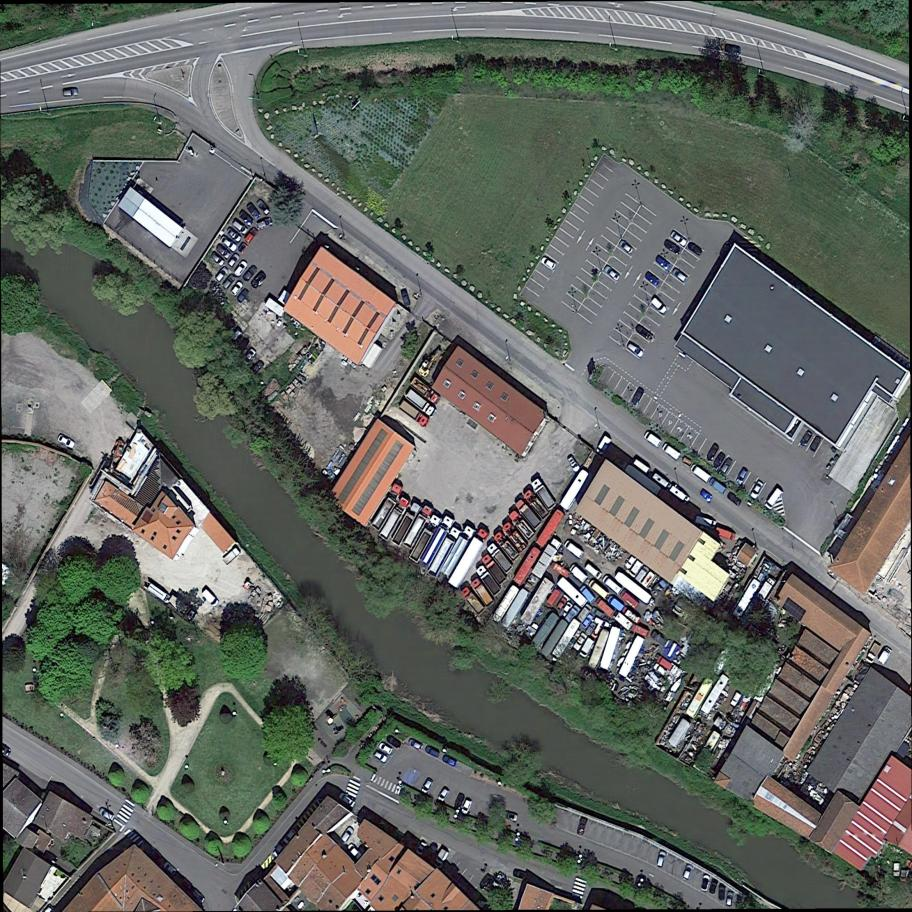large-vehicle: (447, 529, 490, 589), (419, 514, 454, 569), (440, 526, 477, 578), (427, 526, 461, 578), (369, 483, 404, 533), (613, 570, 658, 608), (409, 514, 443, 563), (390, 501, 423, 548), (379, 496, 412, 541), (403, 505, 434, 549), (491, 529, 522, 563), (397, 400, 432, 430), (403, 388, 438, 418), (500, 520, 530, 554), (478, 554, 508, 587), (166, 594, 199, 624), (409, 377, 443, 406), (530, 477, 558, 511), (513, 499, 543, 530), (508, 509, 537, 541), (475, 564, 502, 598), (485, 543, 513, 574), (522, 489, 549, 521), (459, 587, 487, 616), (470, 578, 496, 609), (143, 580, 172, 603), (219, 544, 244, 567), (610, 609, 634, 631), (764, 486, 784, 511), (577, 635, 597, 660), (864, 640, 883, 666), (600, 575, 623, 596), (668, 484, 692, 504), (618, 589, 640, 610), (201, 587, 221, 609), (588, 580, 610, 600), (563, 539, 585, 559), (431, 847, 451, 869), (578, 584, 598, 606), (689, 463, 711, 483), (651, 471, 674, 490), (594, 433, 613, 456), (575, 602, 594, 624), (876, 645, 895, 667), (583, 562, 604, 581), (626, 559, 645, 580), (693, 514, 717, 530), (713, 526, 737, 542), (569, 564, 589, 583), (642, 430, 663, 448), (661, 442, 682, 460), (606, 596, 625, 613), (634, 565, 651, 584), (708, 477, 727, 494)
small-vehicle: (633, 323, 656, 344), (649, 296, 670, 318), (653, 252, 674, 273), (219, 233, 240, 253), (488, 869, 507, 891), (747, 478, 766, 500), (629, 385, 647, 408), (570, 631, 589, 652), (601, 264, 622, 283), (345, 841, 364, 861), (160, 858, 179, 878), (643, 269, 663, 288), (663, 238, 683, 257), (498, 807, 520, 824), (337, 825, 356, 844), (337, 791, 357, 809), (625, 340, 645, 358), (797, 428, 815, 448), (717, 456, 735, 476), (56, 433, 77, 450), (231, 218, 250, 236), (281, 825, 299, 844), (240, 346, 258, 365), (650, 629, 669, 647), (616, 238, 635, 256), (670, 266, 689, 284), (710, 451, 728, 470), (97, 805, 117, 822), (439, 753, 459, 770), (686, 240, 706, 257), (566, 454, 583, 474), (808, 434, 825, 454), (733, 467, 750, 487), (704, 442, 720, 463), (237, 209, 255, 227), (225, 225, 243, 243), (241, 264, 259, 282), (242, 227, 260, 245), (232, 259, 249, 278), (564, 604, 581, 623), (422, 840, 439, 859), (540, 254, 559, 271), (669, 231, 689, 247), (214, 243, 232, 260), (214, 265, 231, 283), (250, 272, 267, 290), (272, 839, 288, 858), (246, 201, 262, 220), (436, 784, 452, 803), (728, 689, 744, 708), (228, 280, 245, 297), (228, 326, 245, 343), (621, 553, 638, 570), (384, 733, 402, 749), (725, 490, 743, 506), (575, 817, 589, 837), (255, 199, 271, 216), (377, 740, 394, 756), (221, 273, 237, 290), (250, 359, 266, 376), (423, 744, 441, 759), (654, 849, 668, 868), (416, 357, 432, 373), (226, 252, 241, 269), (236, 288, 251, 305), (460, 797, 474, 815), (698, 873, 711, 892), (210, 252, 226, 267), (373, 748, 389, 763), (406, 737, 423, 751), (560, 601, 574, 618), (256, 217, 274, 230), (420, 777, 433, 795), (511, 868, 529, 881), (699, 489, 714, 504), (414, 840, 428, 856), (453, 793, 465, 811), (723, 44, 742, 55), (400, 289, 412, 306), (555, 597, 568, 611), (62, 87, 80, 97), (682, 864, 693, 880), (725, 890, 735, 907), (717, 885, 726, 902), (708, 880, 718, 895)
